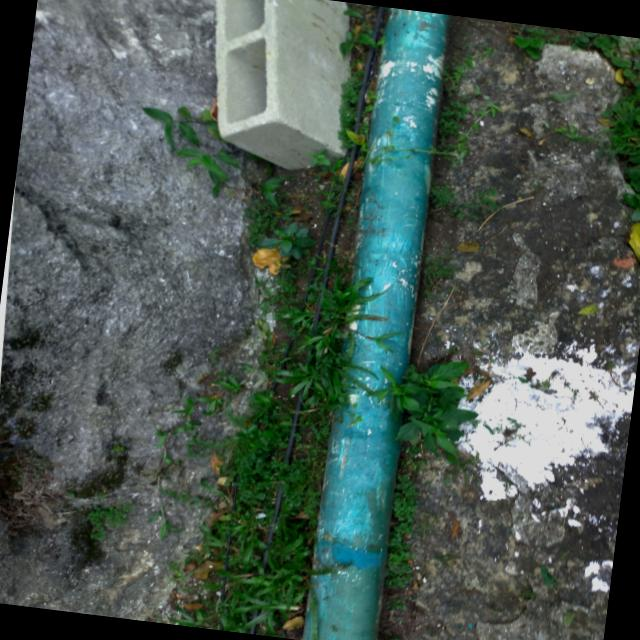gas: (299, 4, 464, 640)
